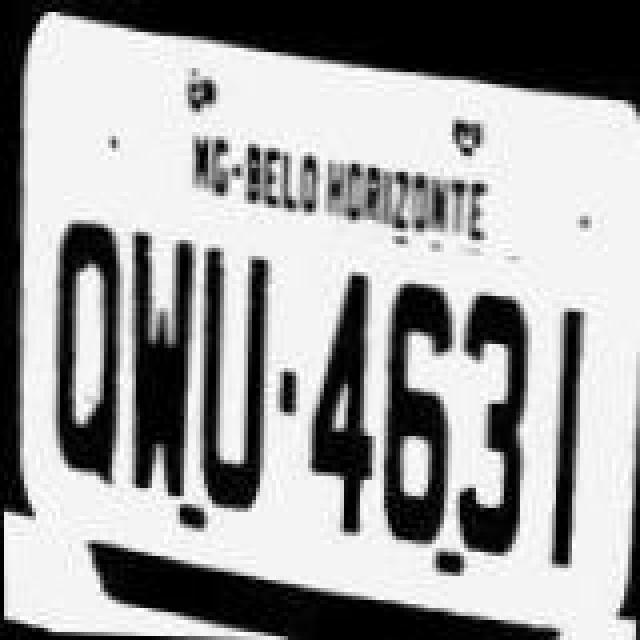1: (538, 308, 602, 564)
3: (448, 288, 532, 556)
4: (296, 262, 376, 546)
6: (370, 280, 458, 552)
Q: (40, 212, 136, 484)
U: (204, 258, 292, 538)
W: (128, 256, 208, 532)
